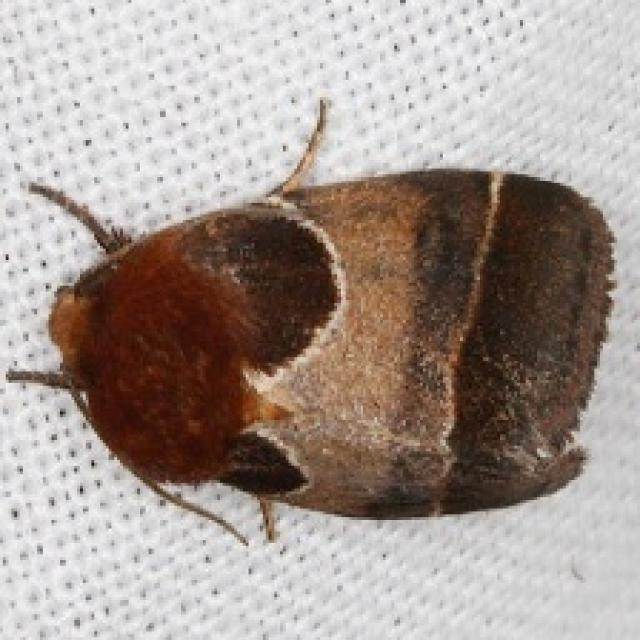butterfly: (3, 94, 617, 546)
